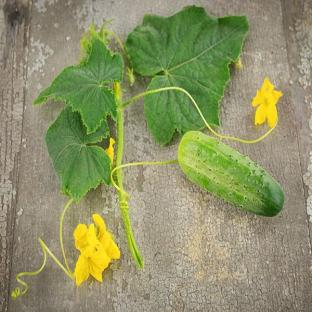Cucumber: (178, 132, 284, 216)
